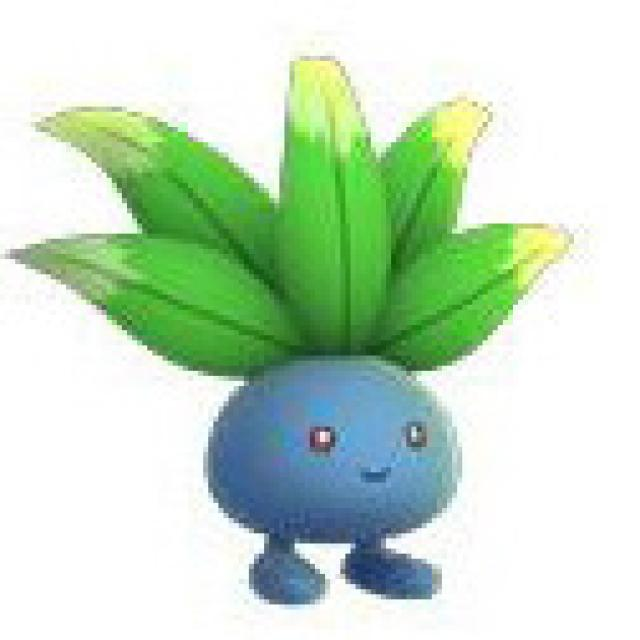Oddish: (212, 154, 476, 605)
